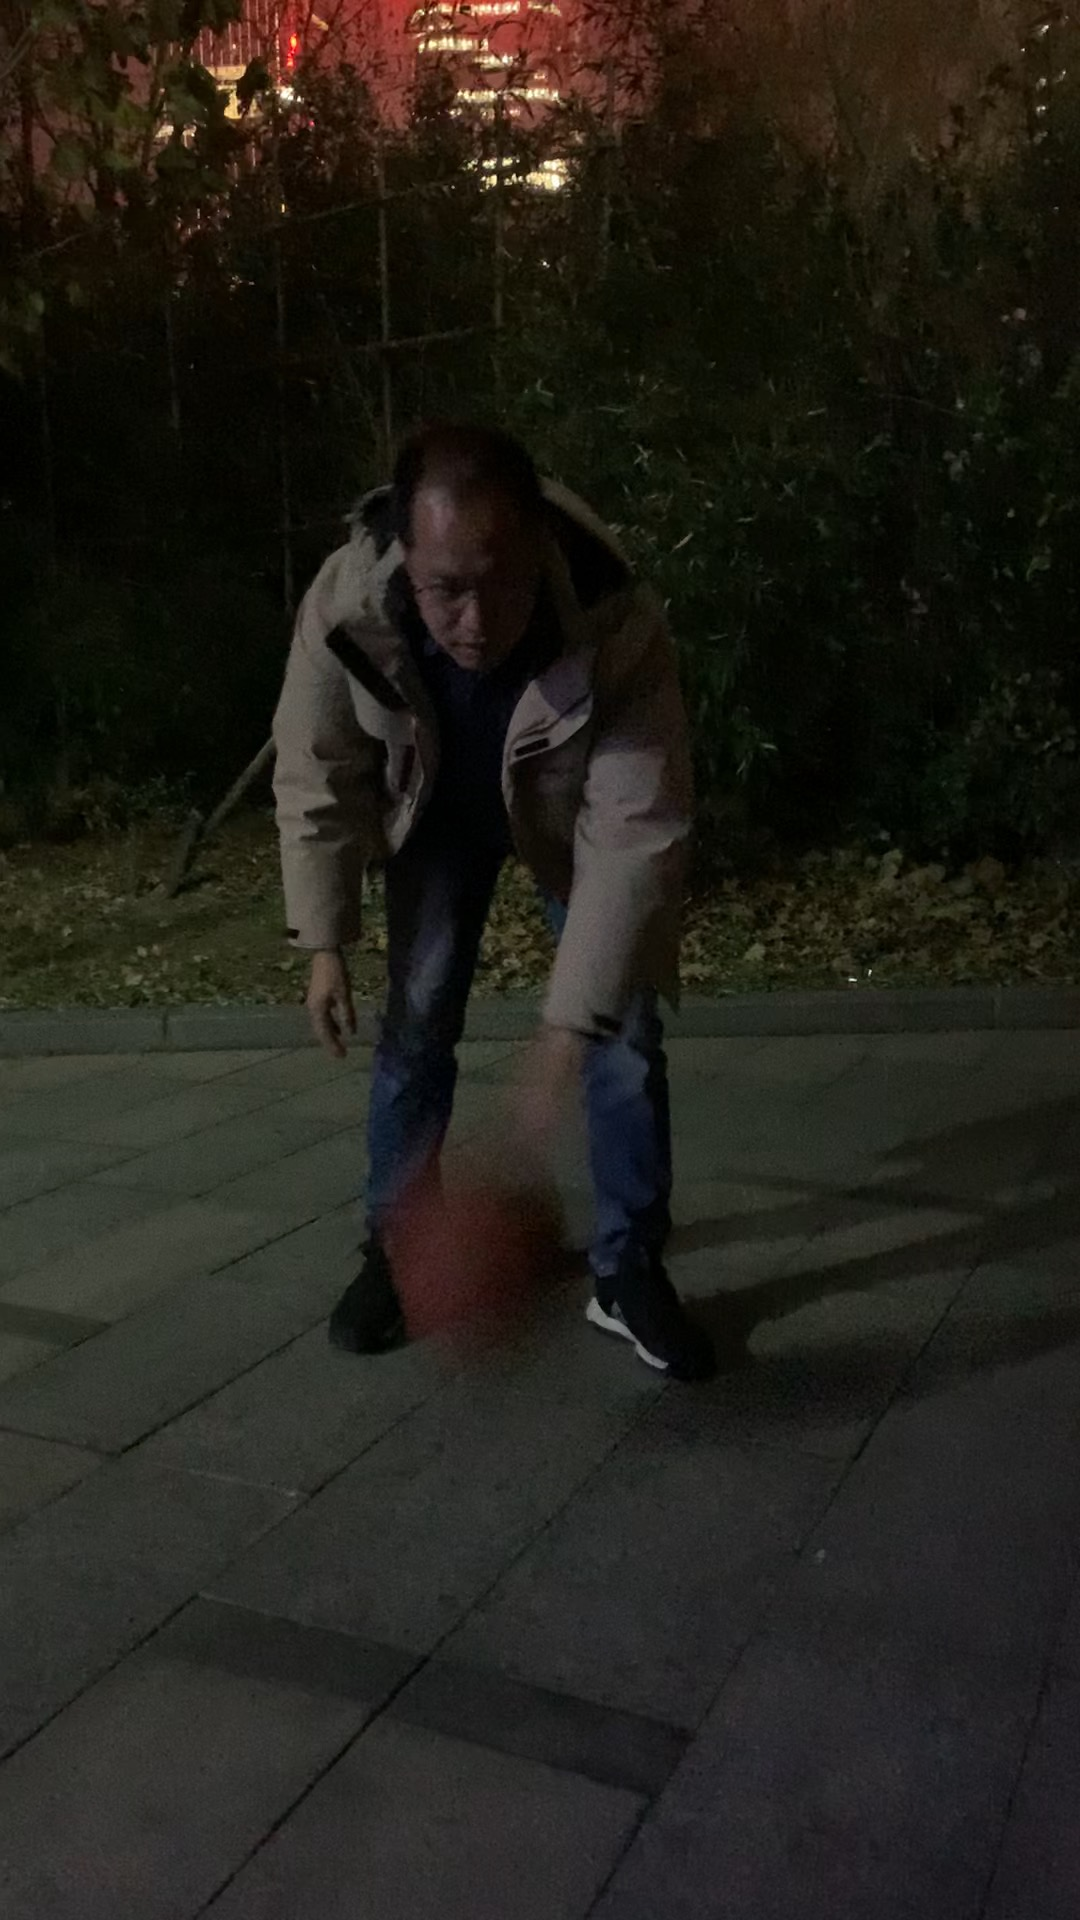ball: (393, 1174, 582, 1364)
